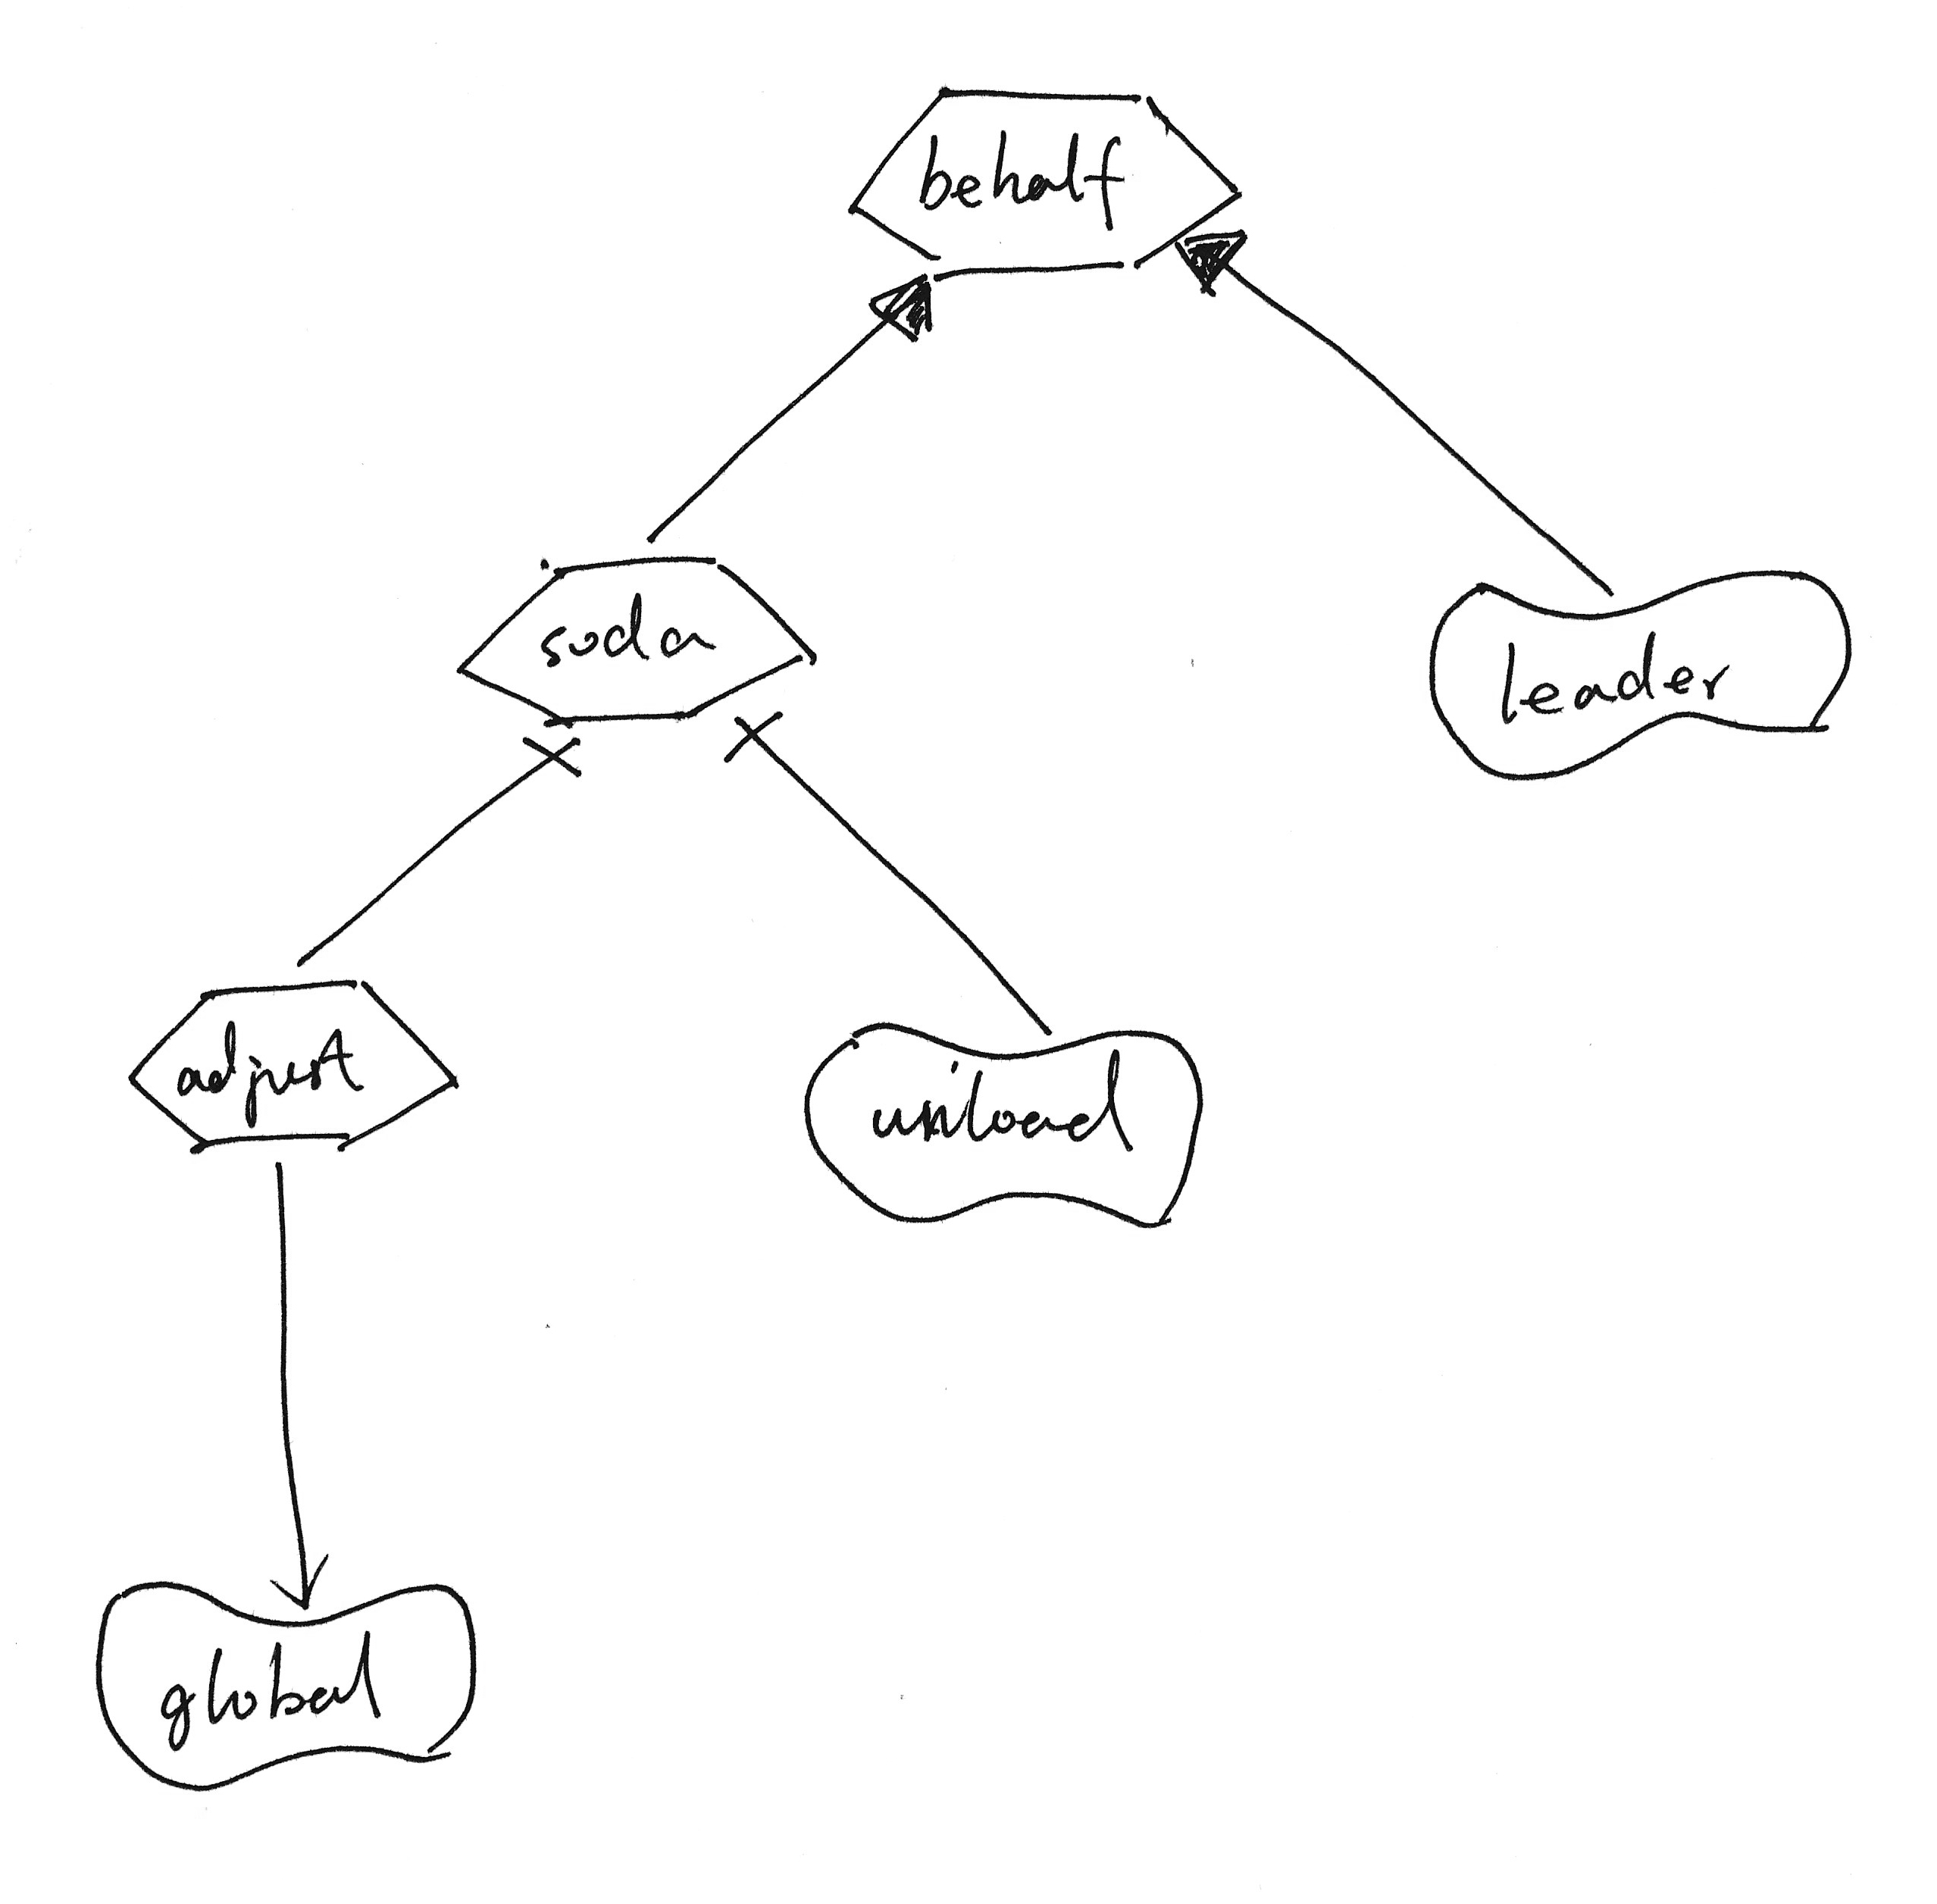and: (710, 706, 800, 790), (504, 725, 600, 804)
arrow: (253, 1545, 345, 1618)
or: (1170, 225, 1262, 309), (863, 267, 952, 352)
quality: (1412, 544, 1864, 800), (792, 1004, 1217, 1250), (87, 1561, 493, 1801)
task: (835, 65, 1252, 289), (101, 961, 474, 1172), (443, 546, 830, 743)
